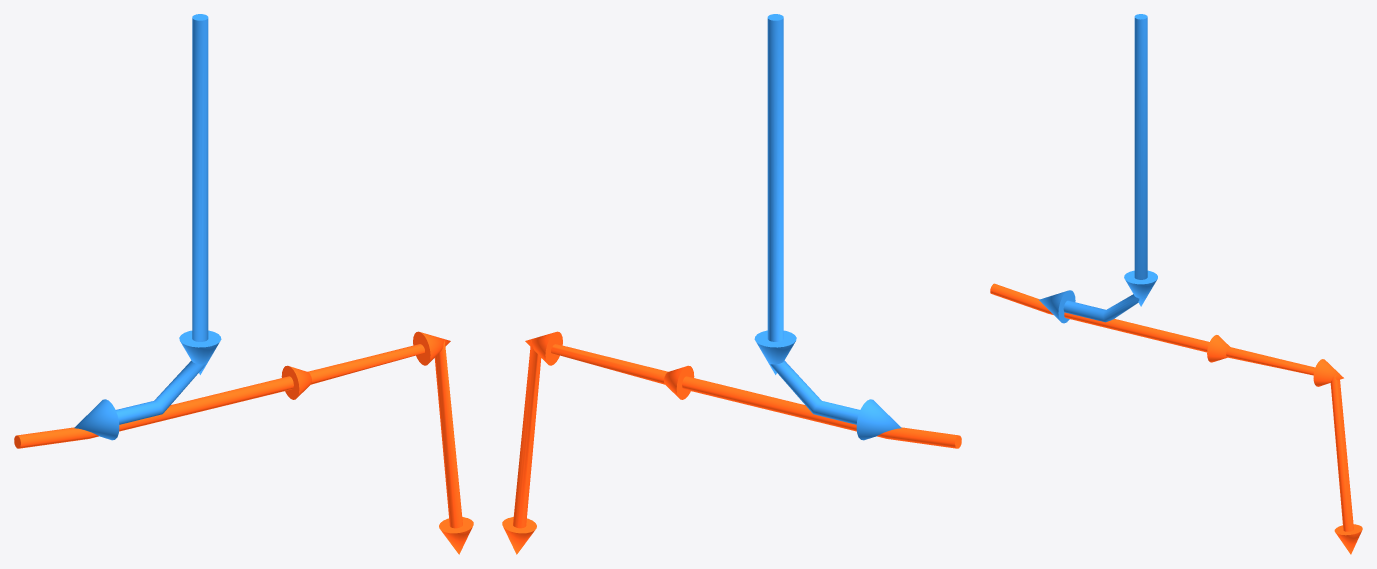
Rendered from gland_packing_assembly_flow.glb.
The picture shows the model from 3 angles, left to right: view 1: azimuth 30°, elevation 25°; view 2: azimuth 150°, elevation 25°; view 3: azimuth 330°, elevation 25°; orthographic projection. The views are drawn at different scales.
Parts seen in each view (by area): view 1: flush, leakage; view 2: flush, leakage; view 3: leakage, flush.
Part boxes in pixels (x1,y1,x2,y2): flush: (74, 14, 221, 440); leakage: (14, 331, 473, 554); flush: (754, 14, 901, 440); leakage: (502, 331, 961, 554); leakage: (990, 283, 1362, 554); flush: (1039, 14, 1157, 323).
Bounding box in the file's own units: 0.194 × 0.245 × 0.0156.
